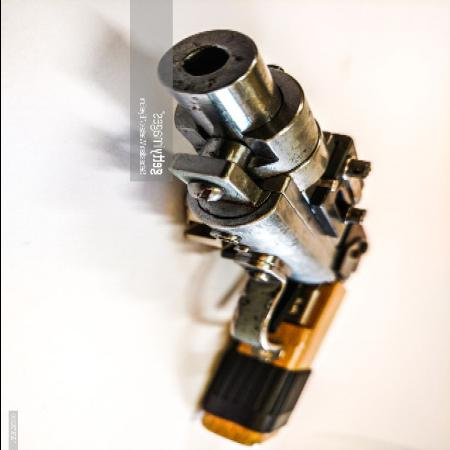Pistol: (158, 25, 366, 447)
